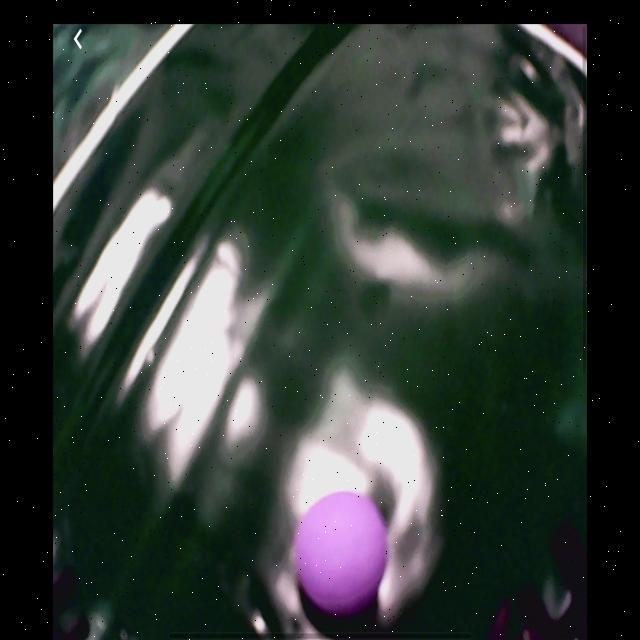ball: (296, 492, 389, 618)
